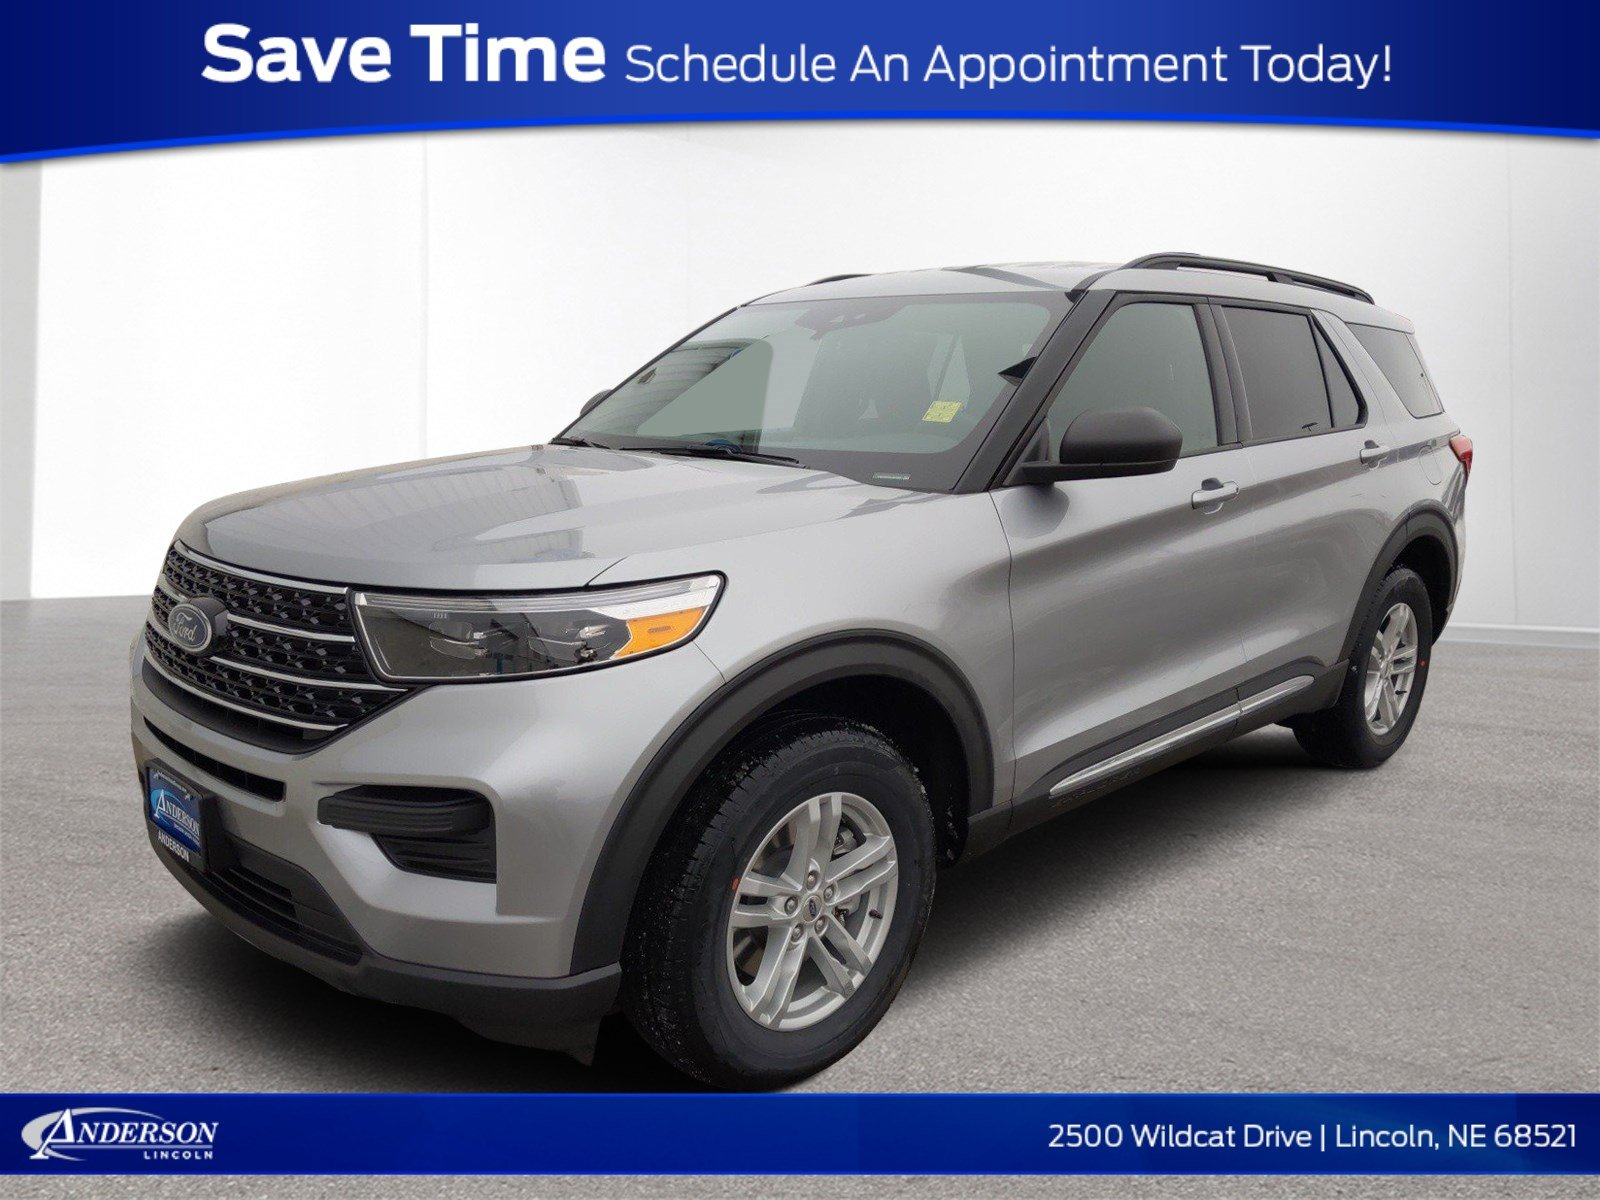Ford Explorer: (121, 248, 1482, 1092)
